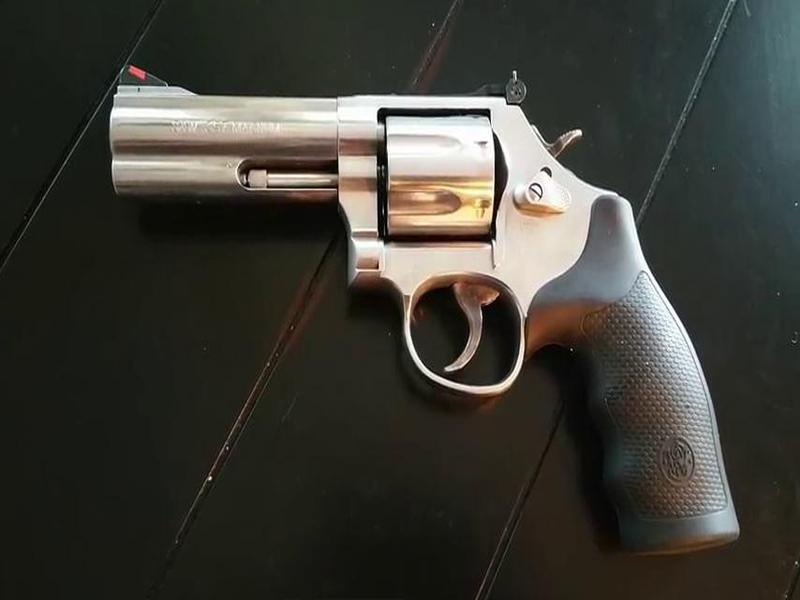Revolver: (104, 57, 745, 552)
